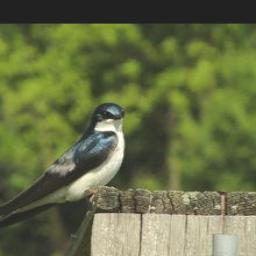Swallow: (0, 101, 127, 230)
